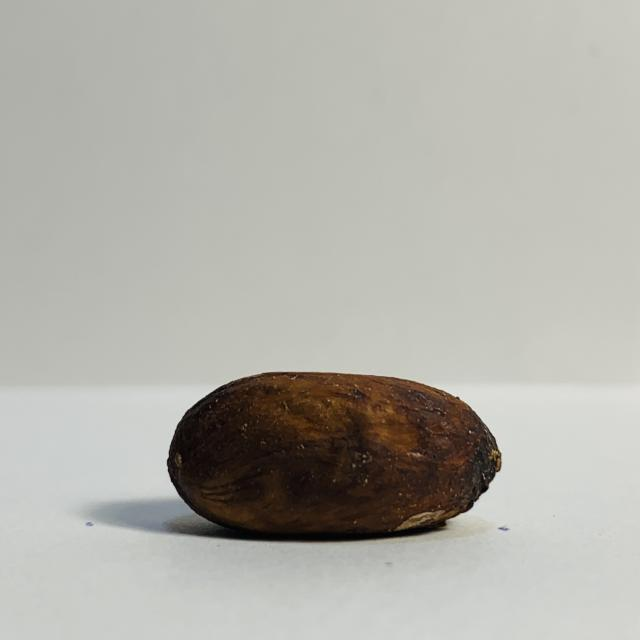Fine_cocoabeans: (113, 367, 582, 567)
